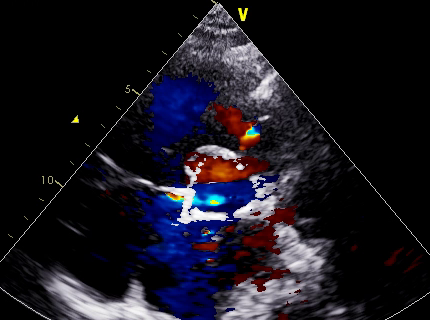PR: (231, 148, 312, 249)
